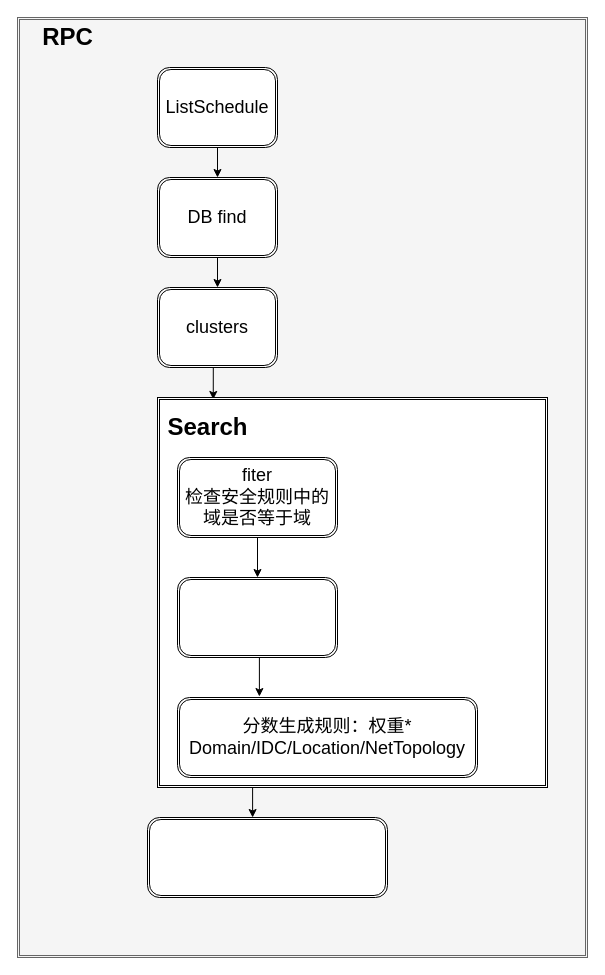
The diagram is 605 pixels wide and 975 high, and some of its shapes have lost their labels. Here are the shapes that lost their labels. From the top down, the centre of each, then its label:
At (x=257, y=617): "sort 对cluster按照分数排序".
At (x=267, y=857): "返回经过过滤和排序的clusters".
